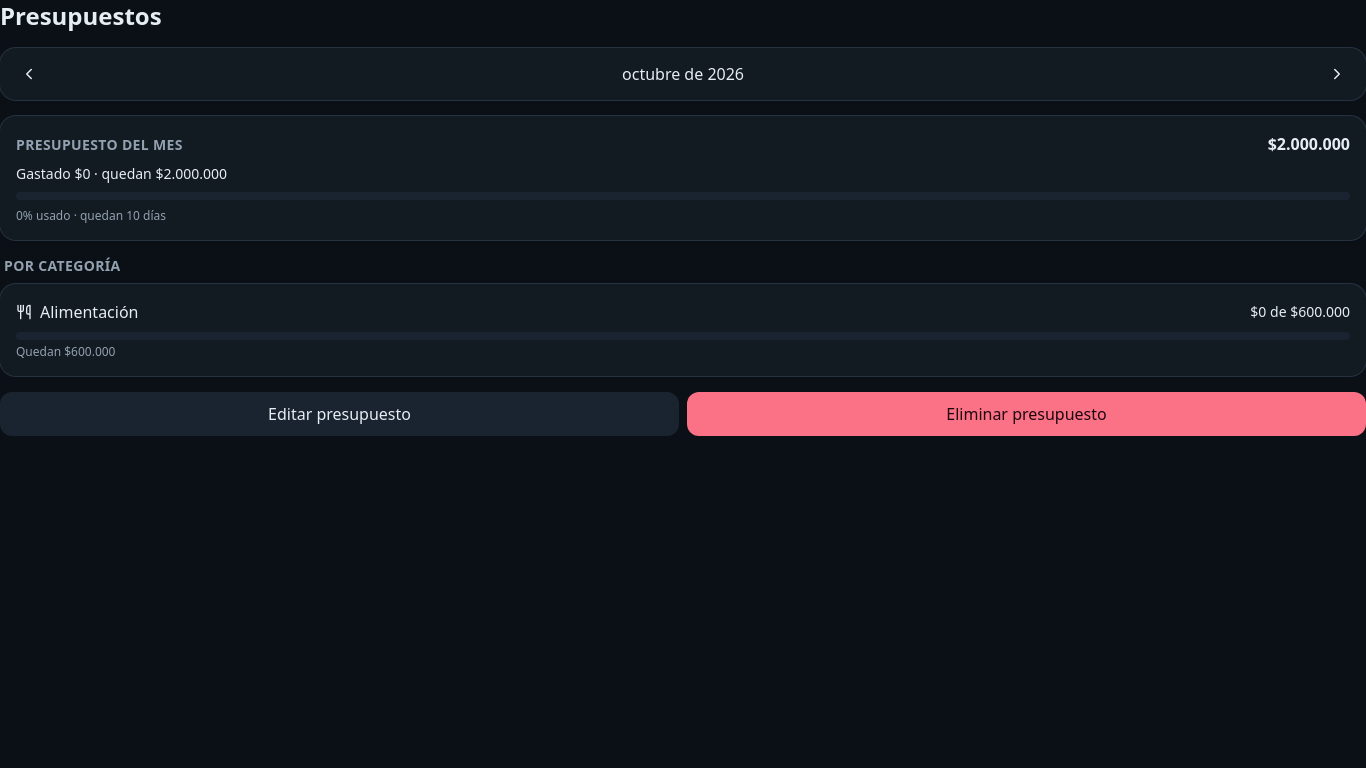
Test: BudgetsPage (spec 8.9) › shows the error of a line under its row
This screenshot has width=1366, height=768.
Click the button "Editar presupuesto" at (340, 414), box [0,392,679,436]
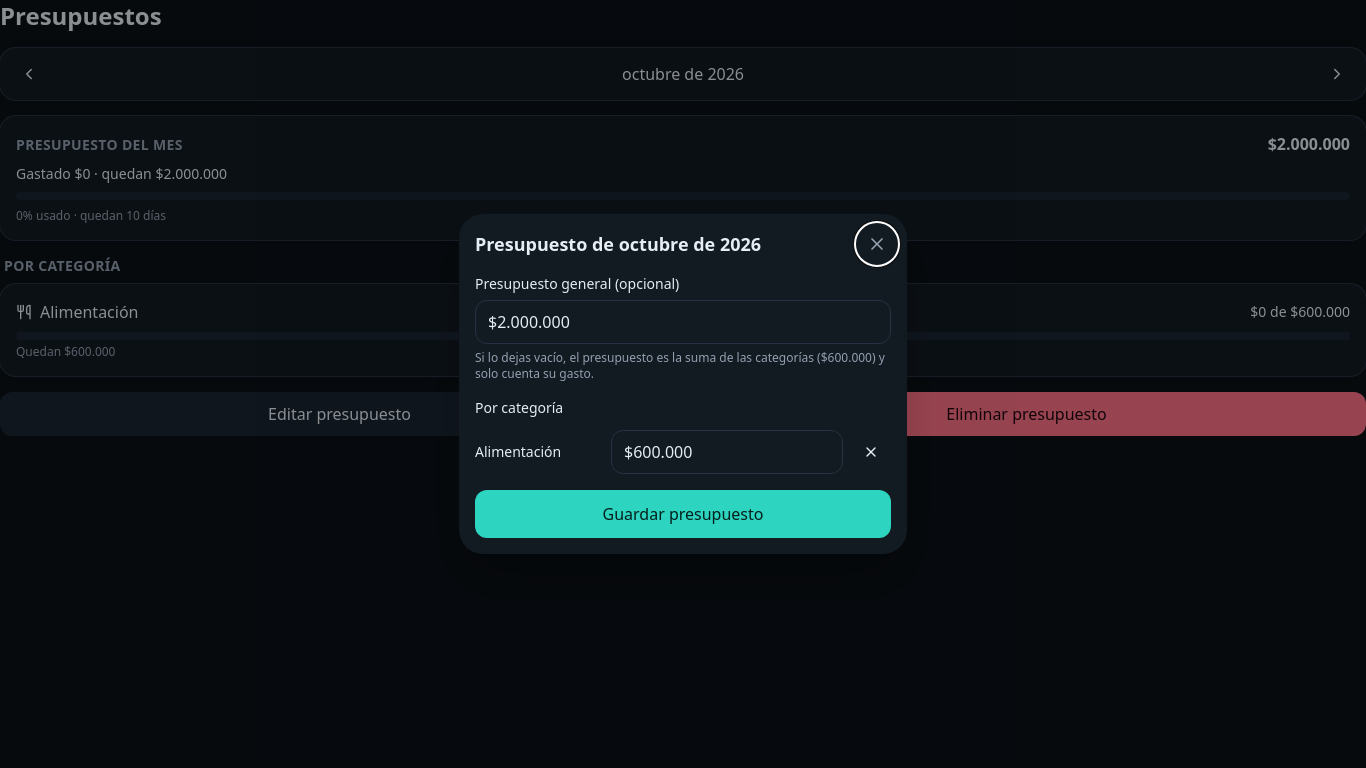
Click the button "Guardar presupuesto" at (683, 514), box [475,490,891,538]
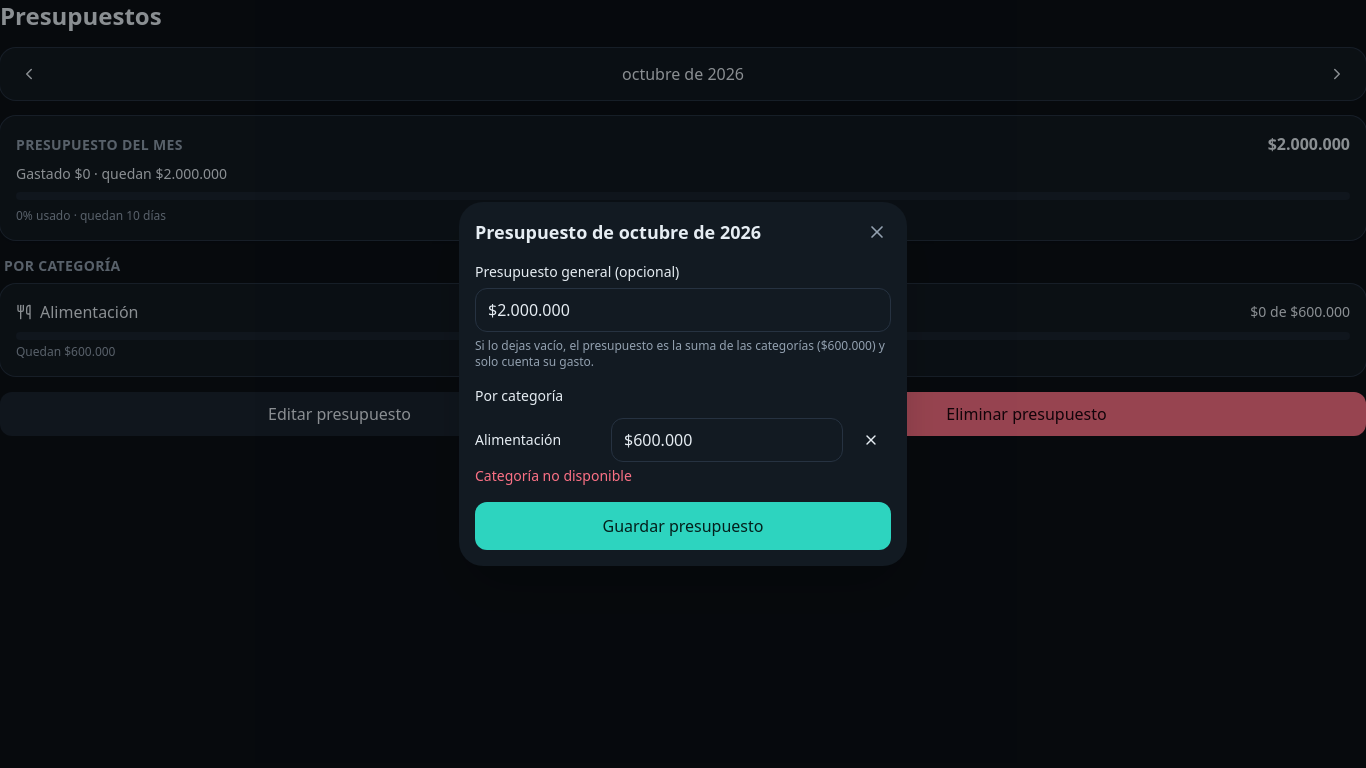
Expected: the text "Categoría no disponible" is shown, [475,466,632,485]
